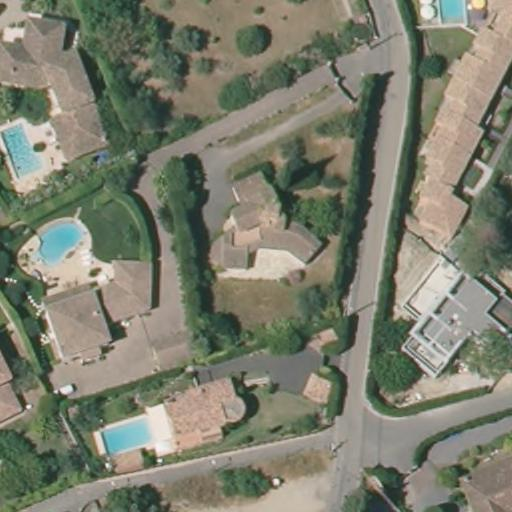pool: (17, 216, 92, 269), (91, 411, 160, 458), (0, 118, 49, 182), (430, 0, 470, 29)
